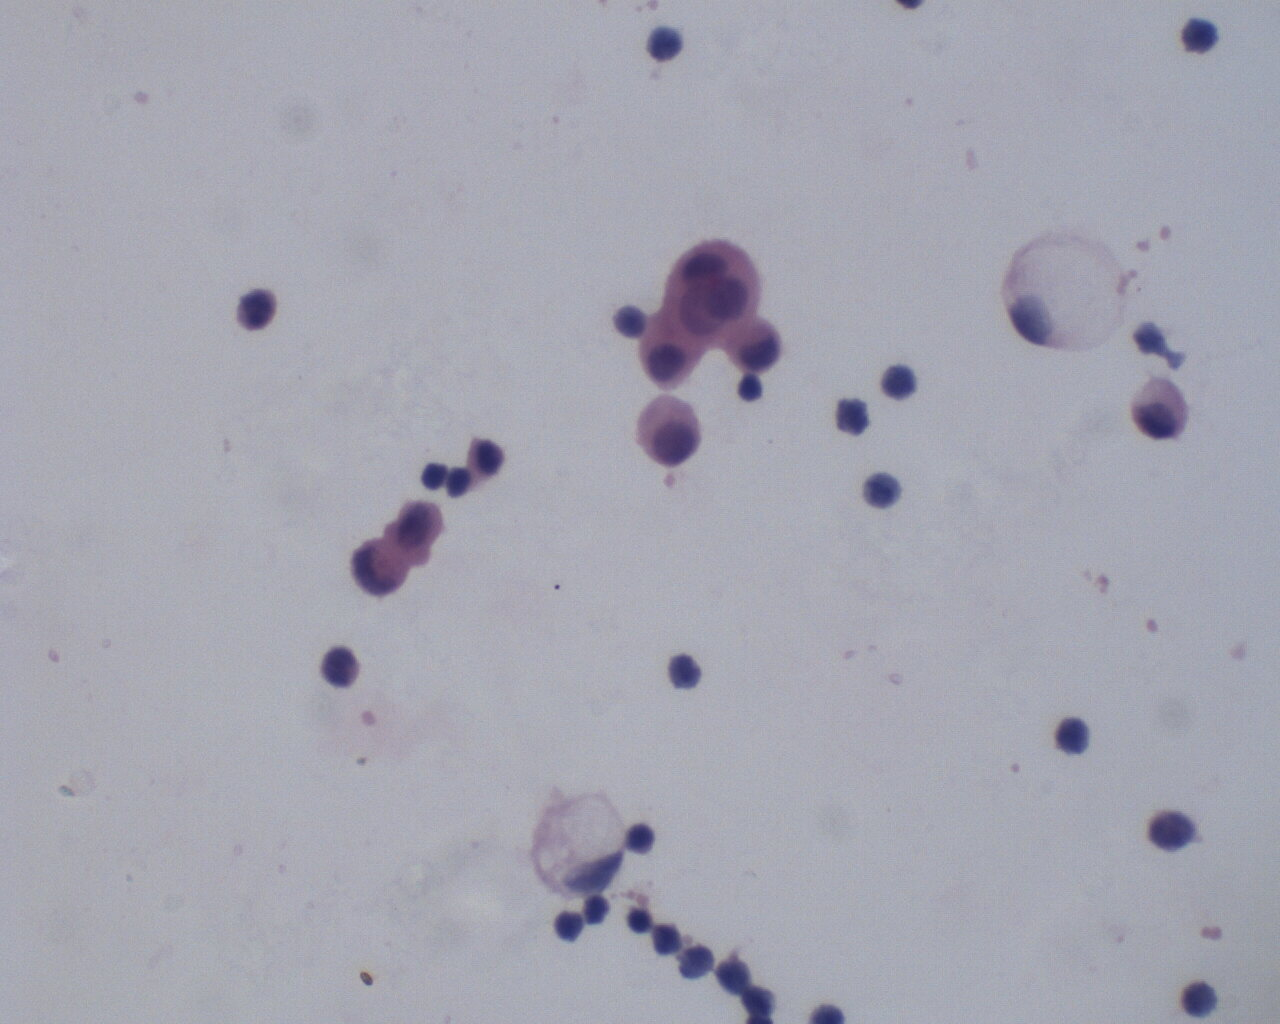histo: (1005, 225, 1131, 355), (528, 785, 629, 897)
lymph: (1179, 9, 1231, 67), (233, 284, 283, 333), (639, 21, 690, 70), (1051, 713, 1096, 758), (877, 363, 926, 403), (667, 651, 709, 695), (861, 466, 905, 508), (650, 920, 688, 959)
meso: (634, 312, 706, 387), (634, 392, 703, 465), (1127, 372, 1195, 445), (723, 316, 789, 374)
